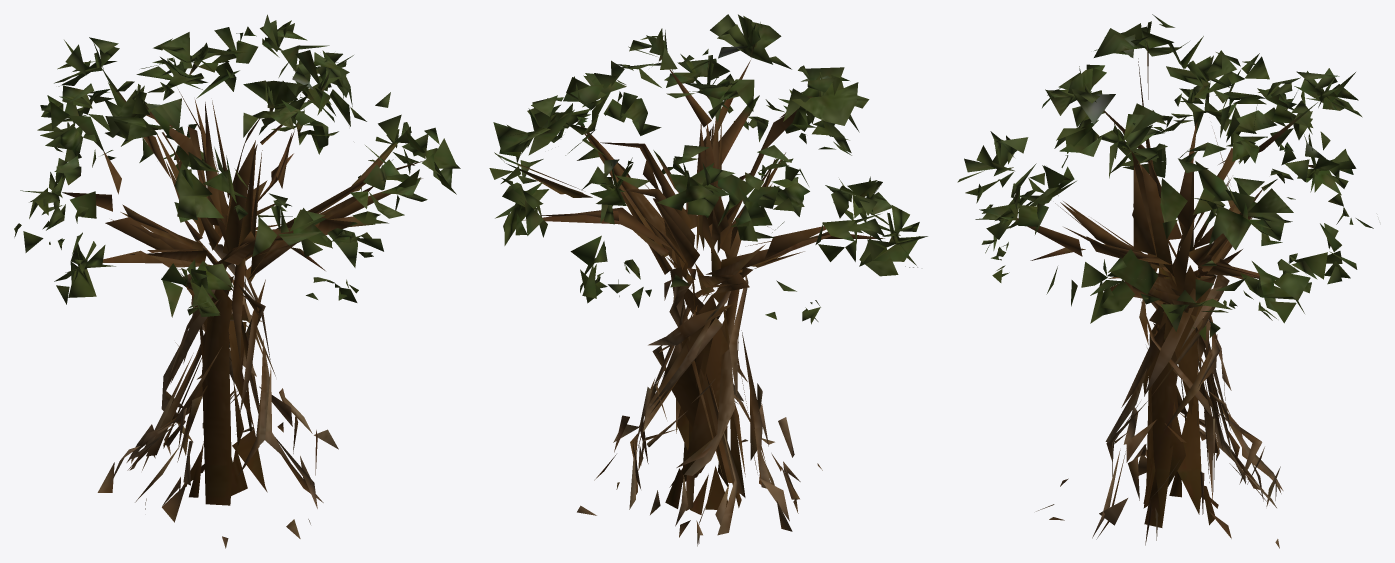
The model's file is jun_strangler_fig_tree_LOD3.glb.
3 renders of one model, left to right at view 1: azimuth 30°, elevation 25°; view 2: azimuth 150°, elevation 25°; view 3: azimuth 270°, elevation 25°, orthographic.
Parts seen in each view (by area): view 1: tripo_node_99fa390e-cb52-41d6-ba5c-23c81ccb37db; view 2: tripo_node_99fa390e-cb52-41d6-ba5c-23c81ccb37db; view 3: tripo_node_99fa390e-cb52-41d6-ba5c-23c81ccb37db.
Boxes of the visible parts, bbox=[...] form: tripo_node_99fa390e-cb52-41d6-ba5c-23c81ccb37db: bbox=[14, 14, 460, 548]; tripo_node_99fa390e-cb52-41d6-ba5c-23c81ccb37db: bbox=[489, 14, 927, 546]; tripo_node_99fa390e-cb52-41d6-ba5c-23c81ccb37db: bbox=[957, 14, 1373, 548].
Size of the model in its own units: 0.9144 by 0.9966 by 0.8501.
1 material, 1 textured.
